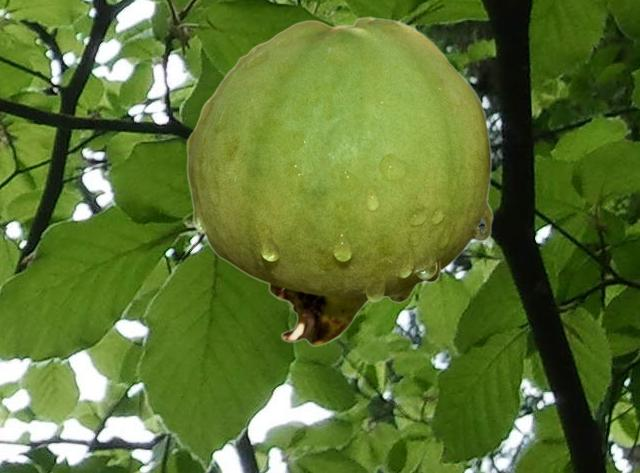guava: (186, 16, 492, 345)
